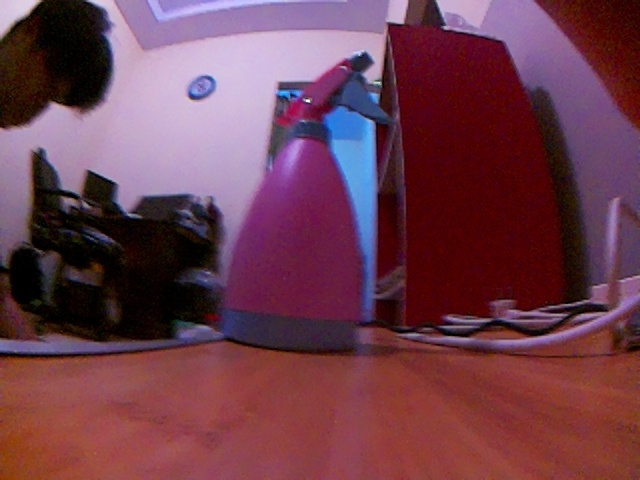korban: (223, 48, 400, 356)
